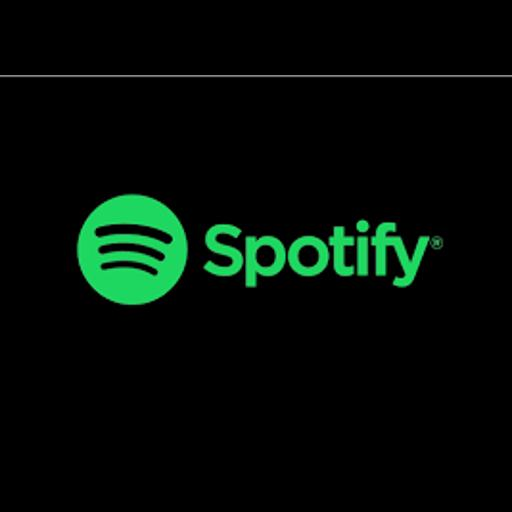Spotify: (0, 75, 512, 437)
